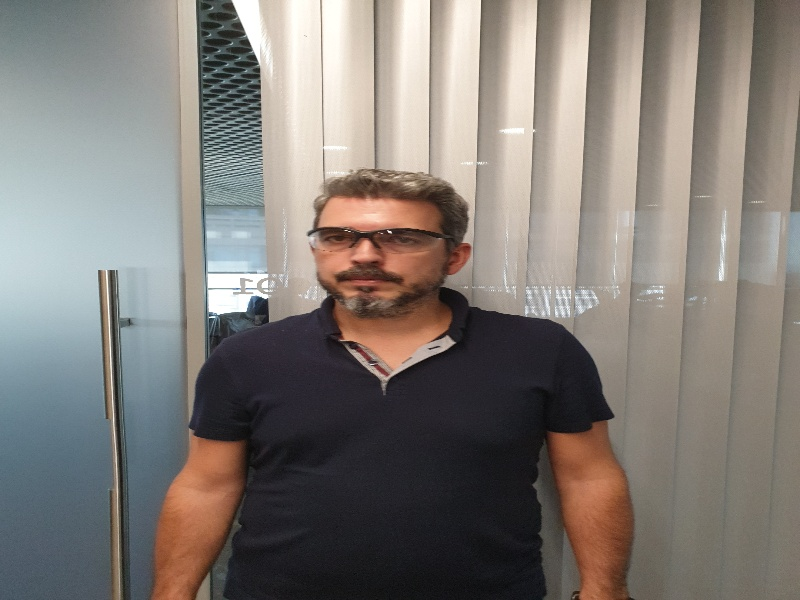Gozluk: (303, 227, 450, 252)
